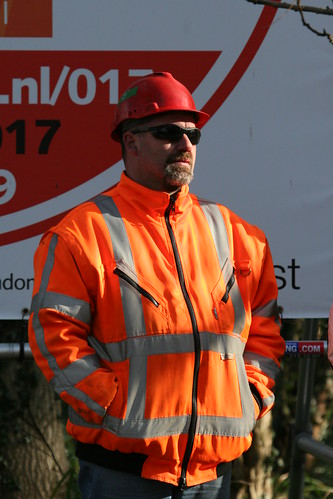person hardhat: (33, 67, 272, 499)
